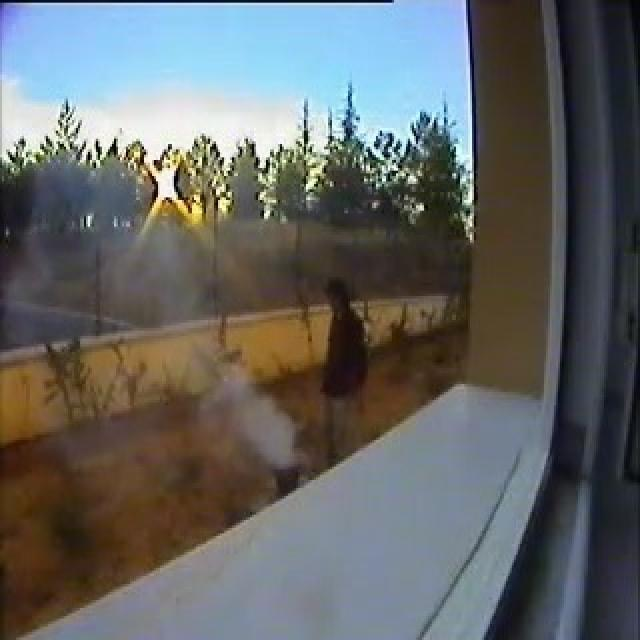smoke: (210, 382, 290, 466)
